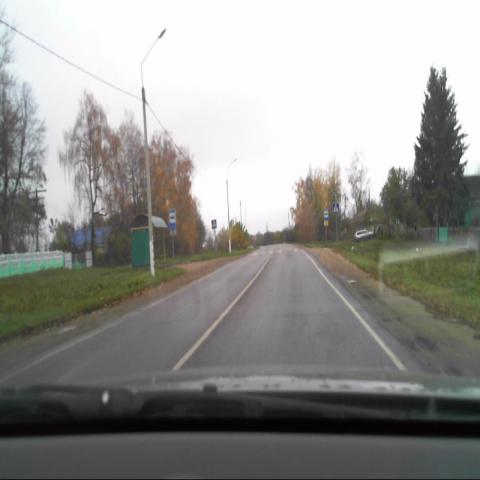5_16: (168, 209, 177, 229)
5_19_1: (332, 201, 340, 213), (211, 218, 217, 229)
